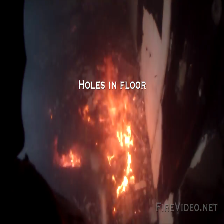fire_h: (99, 57, 128, 126)
fire_l: (116, 125, 133, 148), (61, 149, 81, 168), (116, 176, 129, 198), (124, 152, 132, 175), (106, 155, 114, 166), (83, 105, 89, 112), (112, 174, 116, 184), (130, 176, 134, 185), (112, 206, 116, 214), (87, 116, 91, 122)
